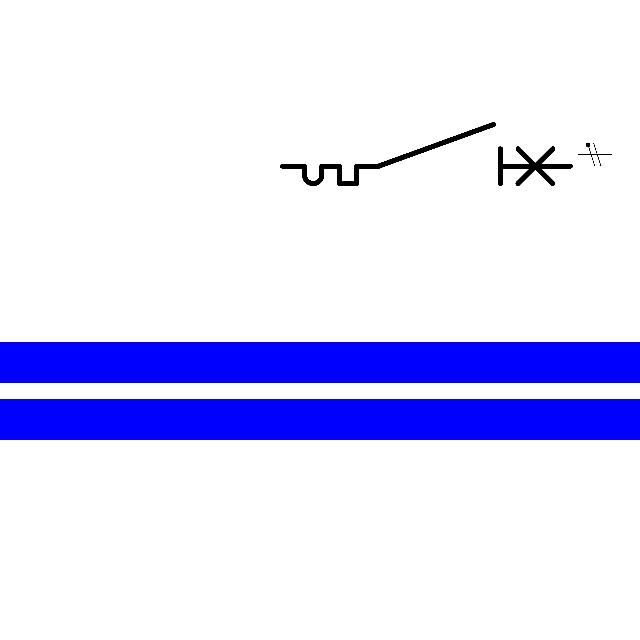interruptor_termomagnetico: (275, 117, 578, 191)
